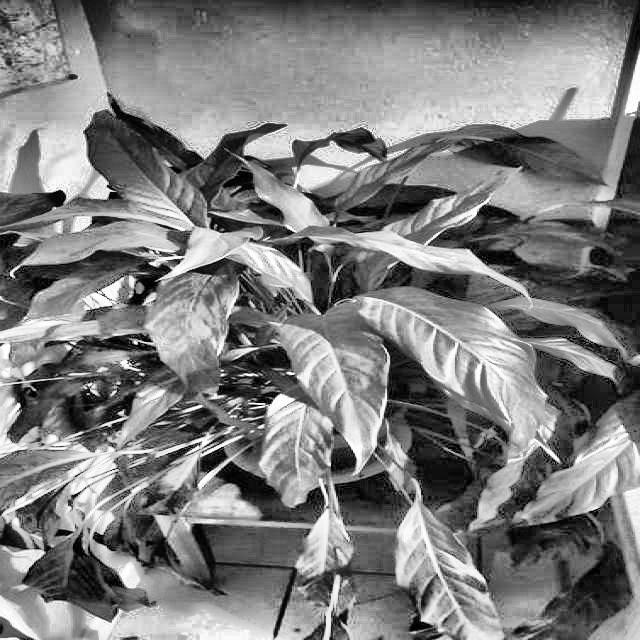plants: (0, 115, 620, 640), (12, 442, 206, 626)
